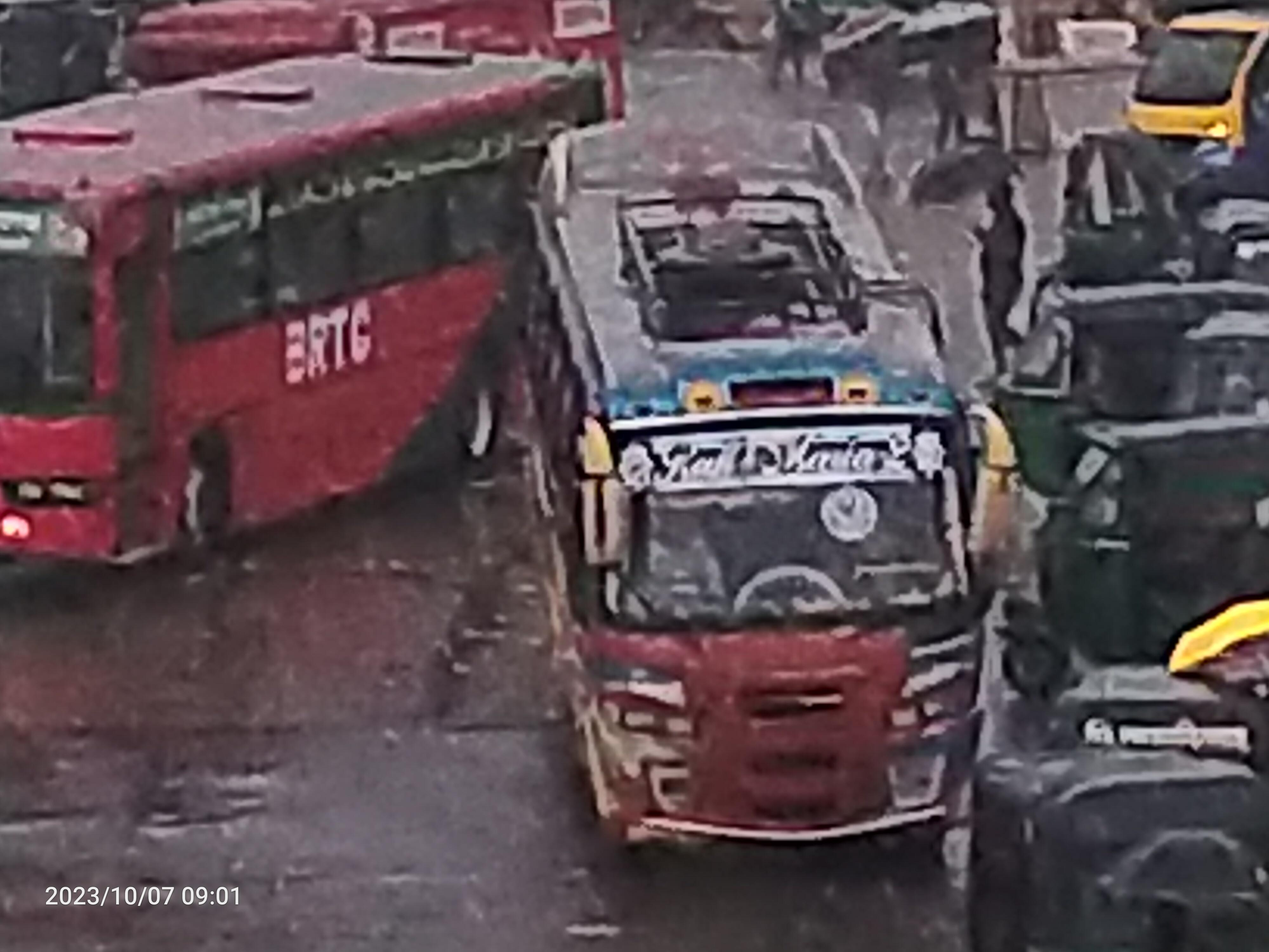Bus: (0, 12, 686, 663), (485, 86, 1003, 869), (97, 0, 656, 172)
Truck: (1083, 6, 1269, 182)
